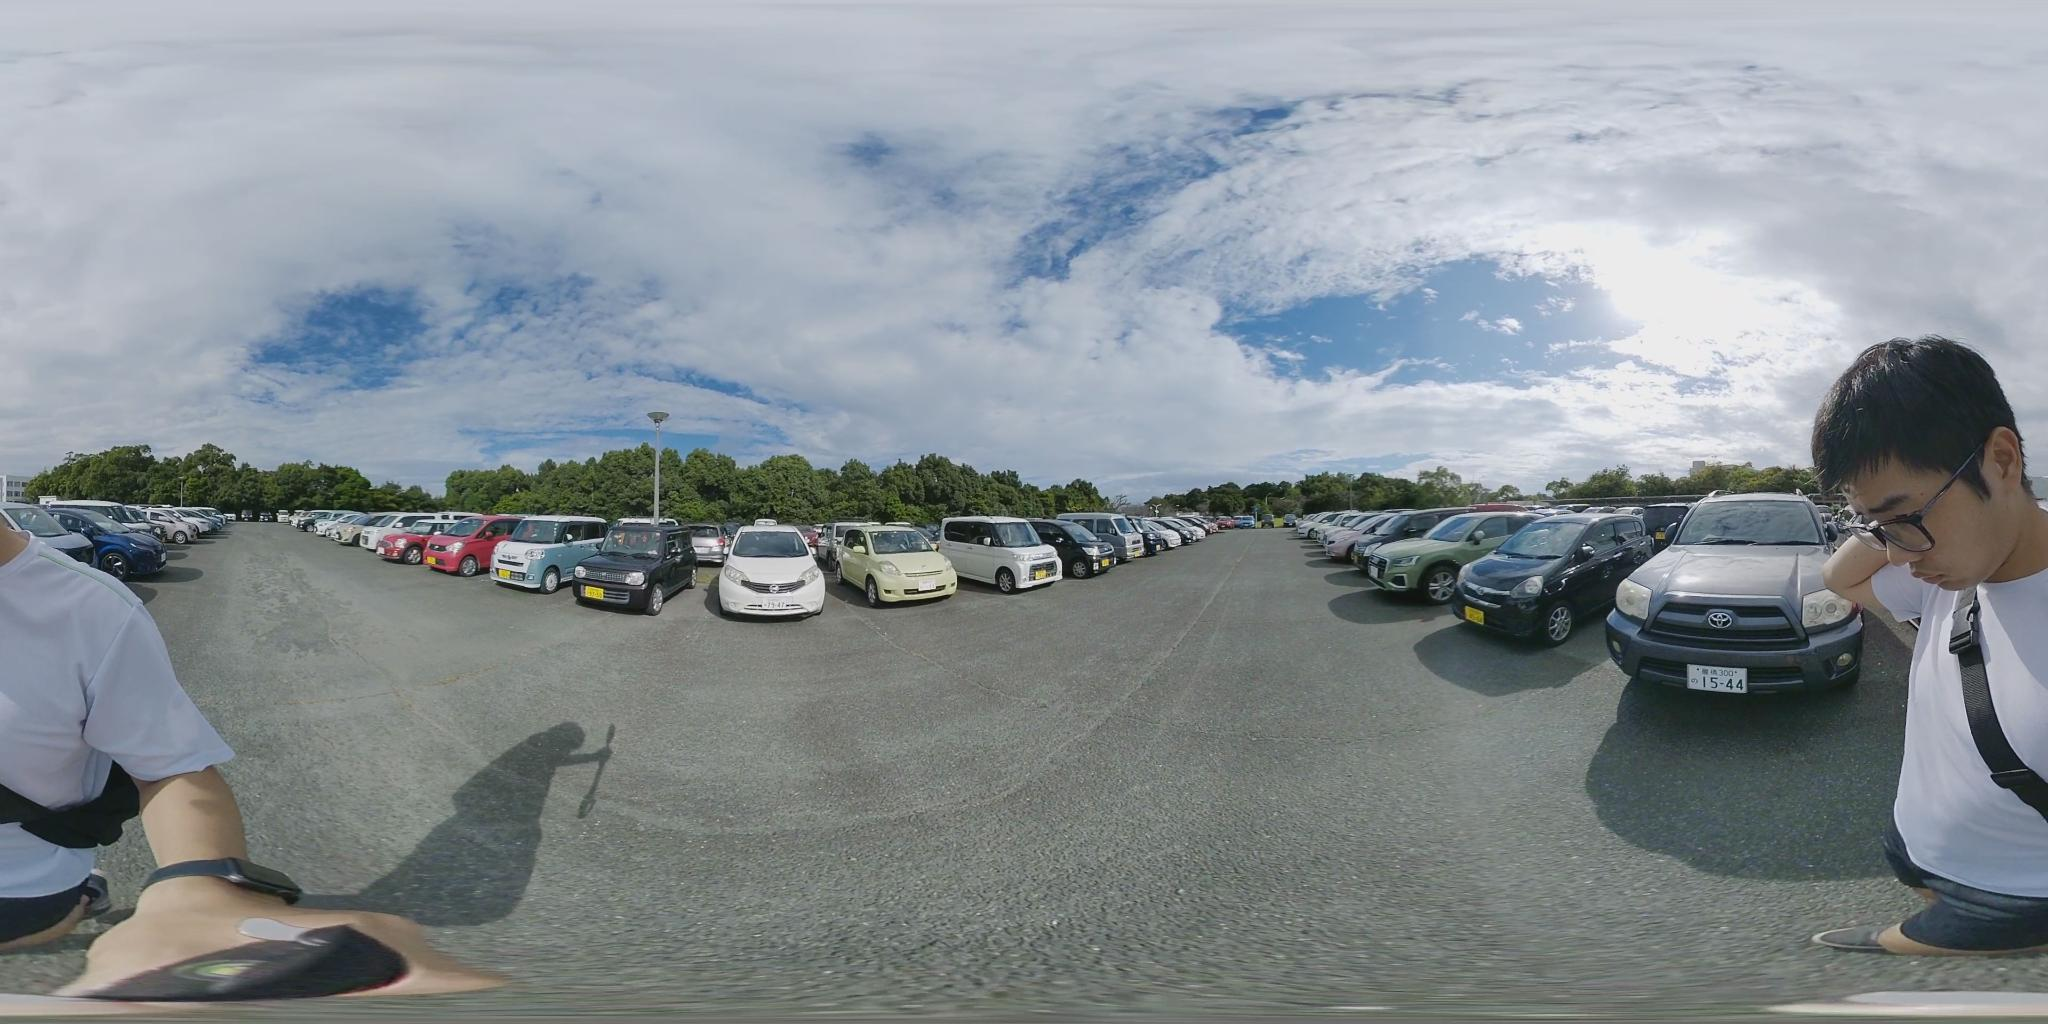car: (1595, 495, 1881, 697), (1452, 513, 1673, 647), (1357, 511, 1545, 597), (5, 507, 165, 580), (825, 524, 964, 602), (936, 519, 1081, 593), (714, 528, 829, 620), (474, 516, 613, 588), (569, 546, 692, 616), (371, 516, 482, 567), (1315, 512, 1418, 558), (1058, 513, 1145, 567), (155, 509, 230, 542), (1138, 519, 1206, 551), (313, 515, 364, 543), (1213, 517, 1253, 533)
